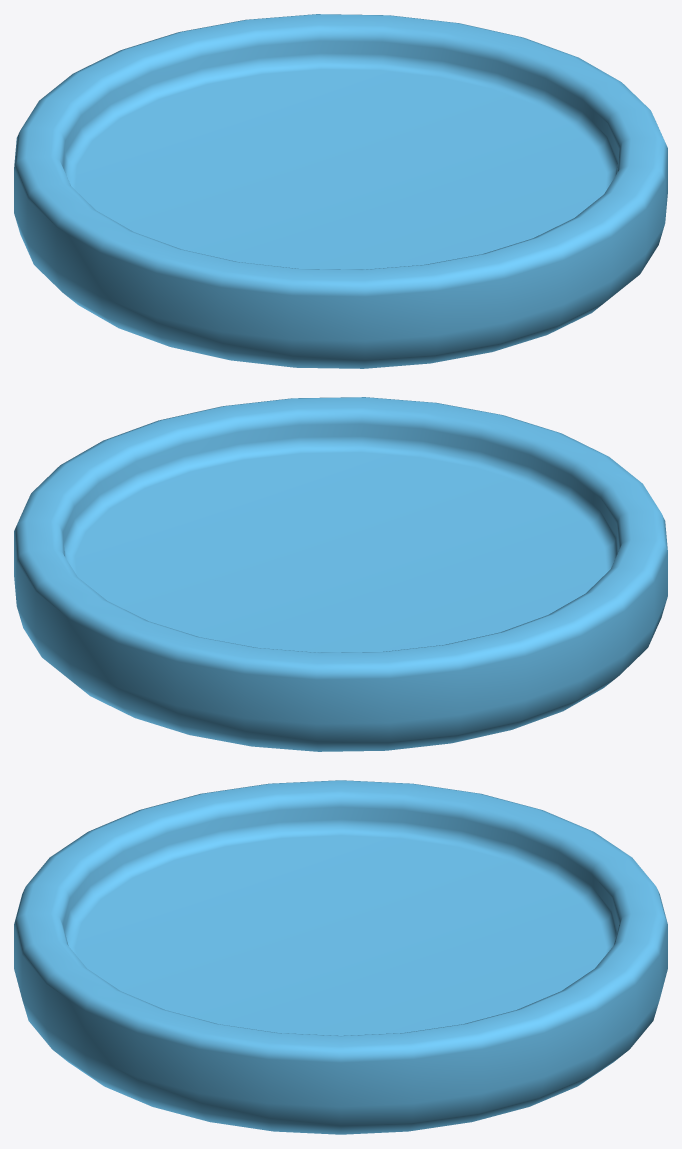
File: Store_18_Plate_1.glb
The picture shows the model from 3 angles, top to bottom: view 1: azimuth 30°, elevation 25°; view 2: azimuth 150°, elevation 25°; view 3: azimuth 270°, elevation 25°; orthographic projection.
Visible parts, largest first — view 1: Store_18_Plate_1; view 2: Store_18_Plate_1; view 3: Store_18_Plate_1.
Boxes of the visible parts, x1=… form: Store_18_Plate_1: x1=14, y1=14, x2=667, y2=368; Store_18_Plate_1: x1=14, y1=397, x2=667, y2=751; Store_18_Plate_1: x1=14, y1=780, x2=667, y2=1134.
Size of the model in its own units: 0.3854 by 0.0644 by 0.3854.
1 material, 1 textured.
